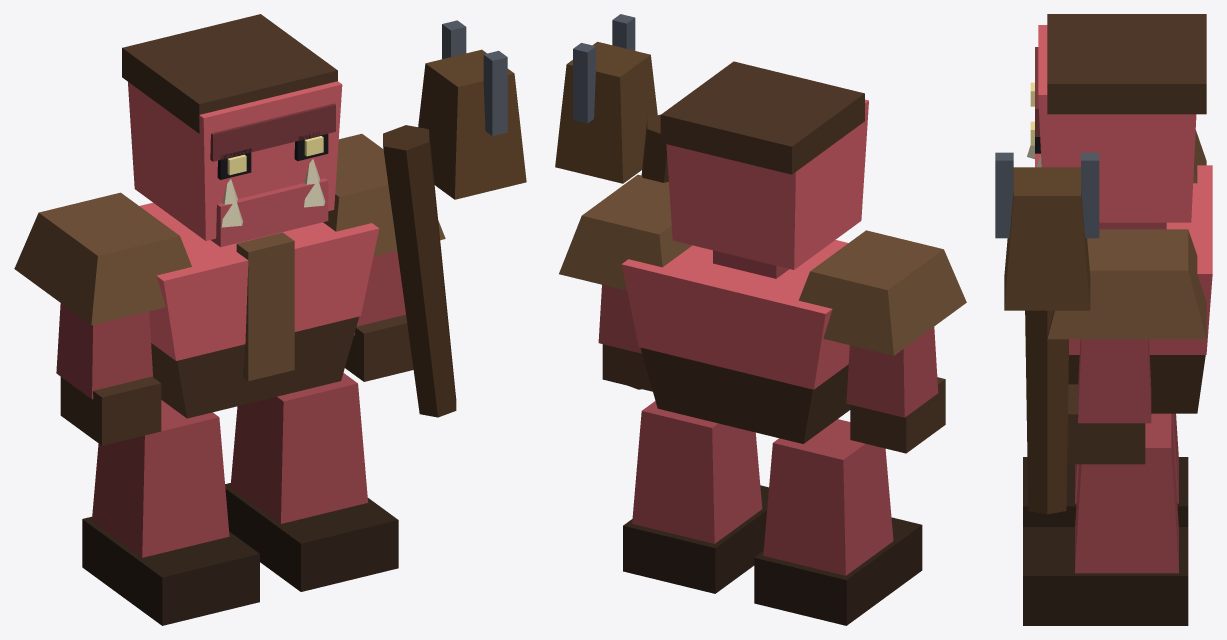
The model's file is enemy_grunt.glb.
3 renders of one model, left to right at view 1: azimuth 30°, elevation 25°; view 2: azimuth 150°, elevation 25°; view 3: azimuth 270°, elevation 25°, orthographic. The views are drawn at different scales.
Parts seen in each view (by area): view 1: enemy_grunt; view 2: enemy_grunt; view 3: enemy_grunt.
Boxes of the visible parts, box(x1,y1,x2,y2) form: enemy_grunt: box(14, 14, 526, 625); enemy_grunt: box(555, 14, 966, 625); enemy_grunt: box(995, 14, 1212, 625).
Bounding box in the file's own units: 0.8073 × 0.9325 × 0.355.
